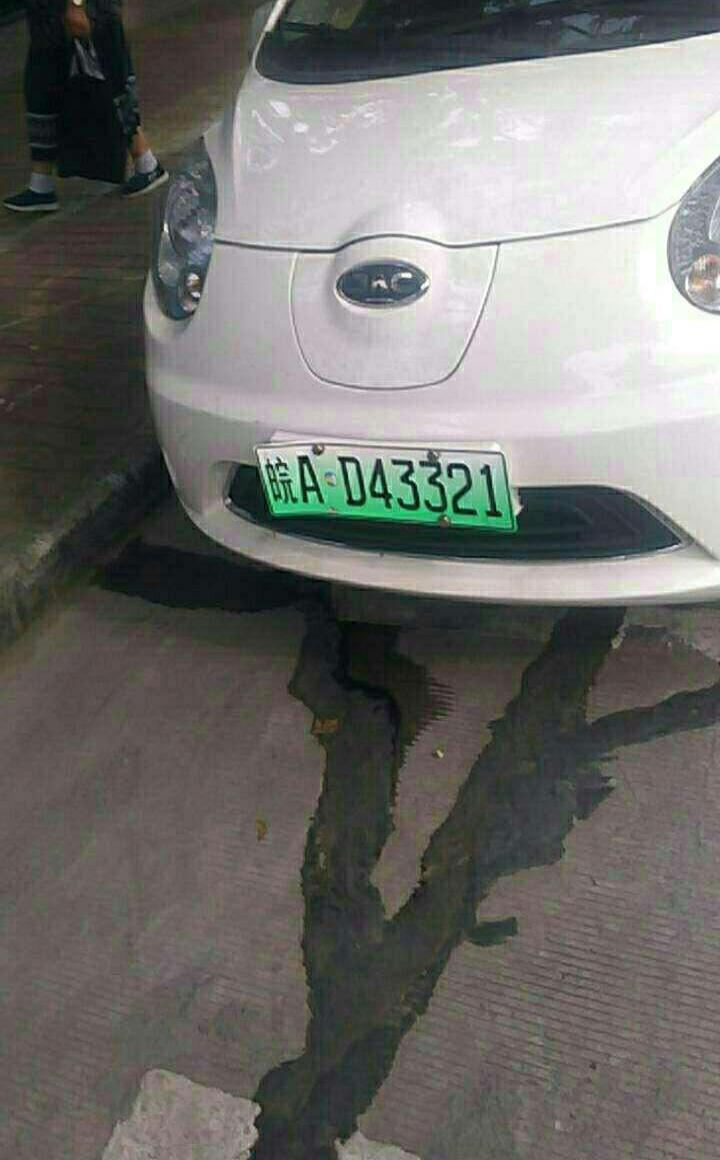car_id: (258, 446, 515, 523)
